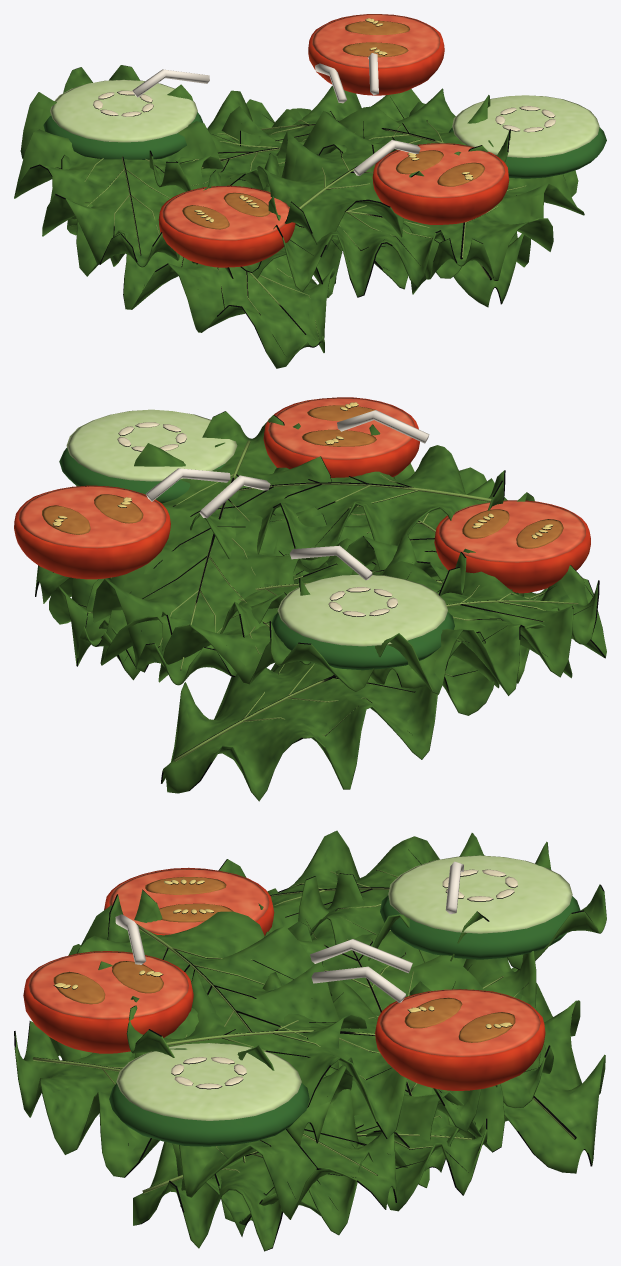
The model's file is kale_salad.glb.
3 views of the same model, one above another, from view 1: azimuth 30°, elevation 25°; view 2: azimuth 150°, elevation 25°; view 3: azimuth 270°, elevation 25° (orthographic). The views are drawn at different scales.
Visible parts, largest first — view 1: kale_salad; view 2: kale_salad; view 3: kale_salad.
Boxes of the visible parts, x1,y1,x2,y2 form: kale_salad: [14, 14, 606, 368]; kale_salad: [14, 397, 606, 801]; kale_salad: [14, 830, 606, 1251].
Size of the model in its own units: 0.0706 by 0.0271 by 0.059.
1 material, 1 textured.
